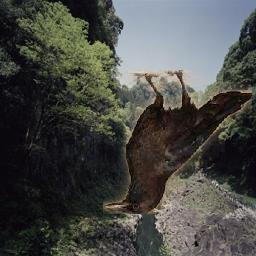Crow: (104, 70, 253, 214)
